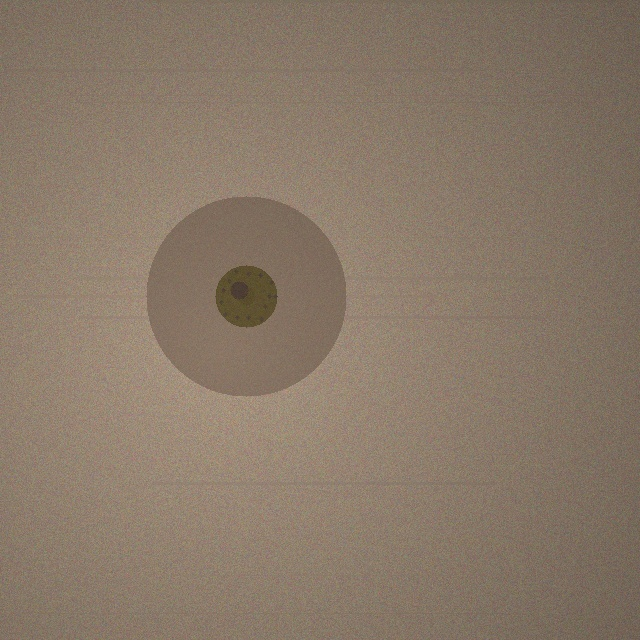cold_weld: (146, 196, 346, 396)
